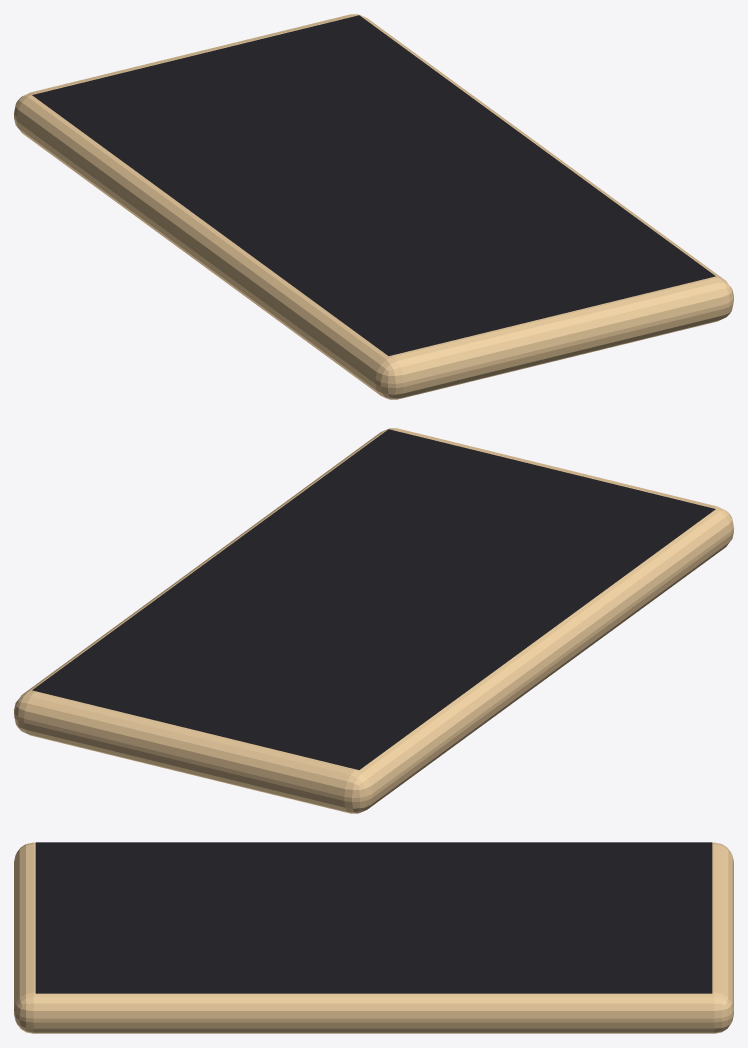
File: iqoo-number-series-model-232-budget-2026.glb
3 renders of one model, top to bottom at view 1: azimuth 30°, elevation 25°; view 2: azimuth 150°, elevation 25°; view 3: azimuth 270°, elevation 25°, orthographic. The views are drawn at different scales.
Visible parts, largest first — view 1: Phone_Screen, Phone_Body; view 2: Phone_Screen, Phone_Body; view 3: Phone_Screen, Phone_Body.
Boxes of the visible parts, <box> form: Phone_Screen: <box>32,15,715,355</box>; Phone_Body: <box>14,14,733,399</box>; Phone_Screen: <box>32,429,715,769</box>; Phone_Body: <box>14,428,733,813</box>; Phone_Screen: <box>35,842,712,993</box>; Phone_Body: <box>14,842,733,1033</box>.
Size of the model in its own units: 0.077 by 0.0087 by 0.1422.
